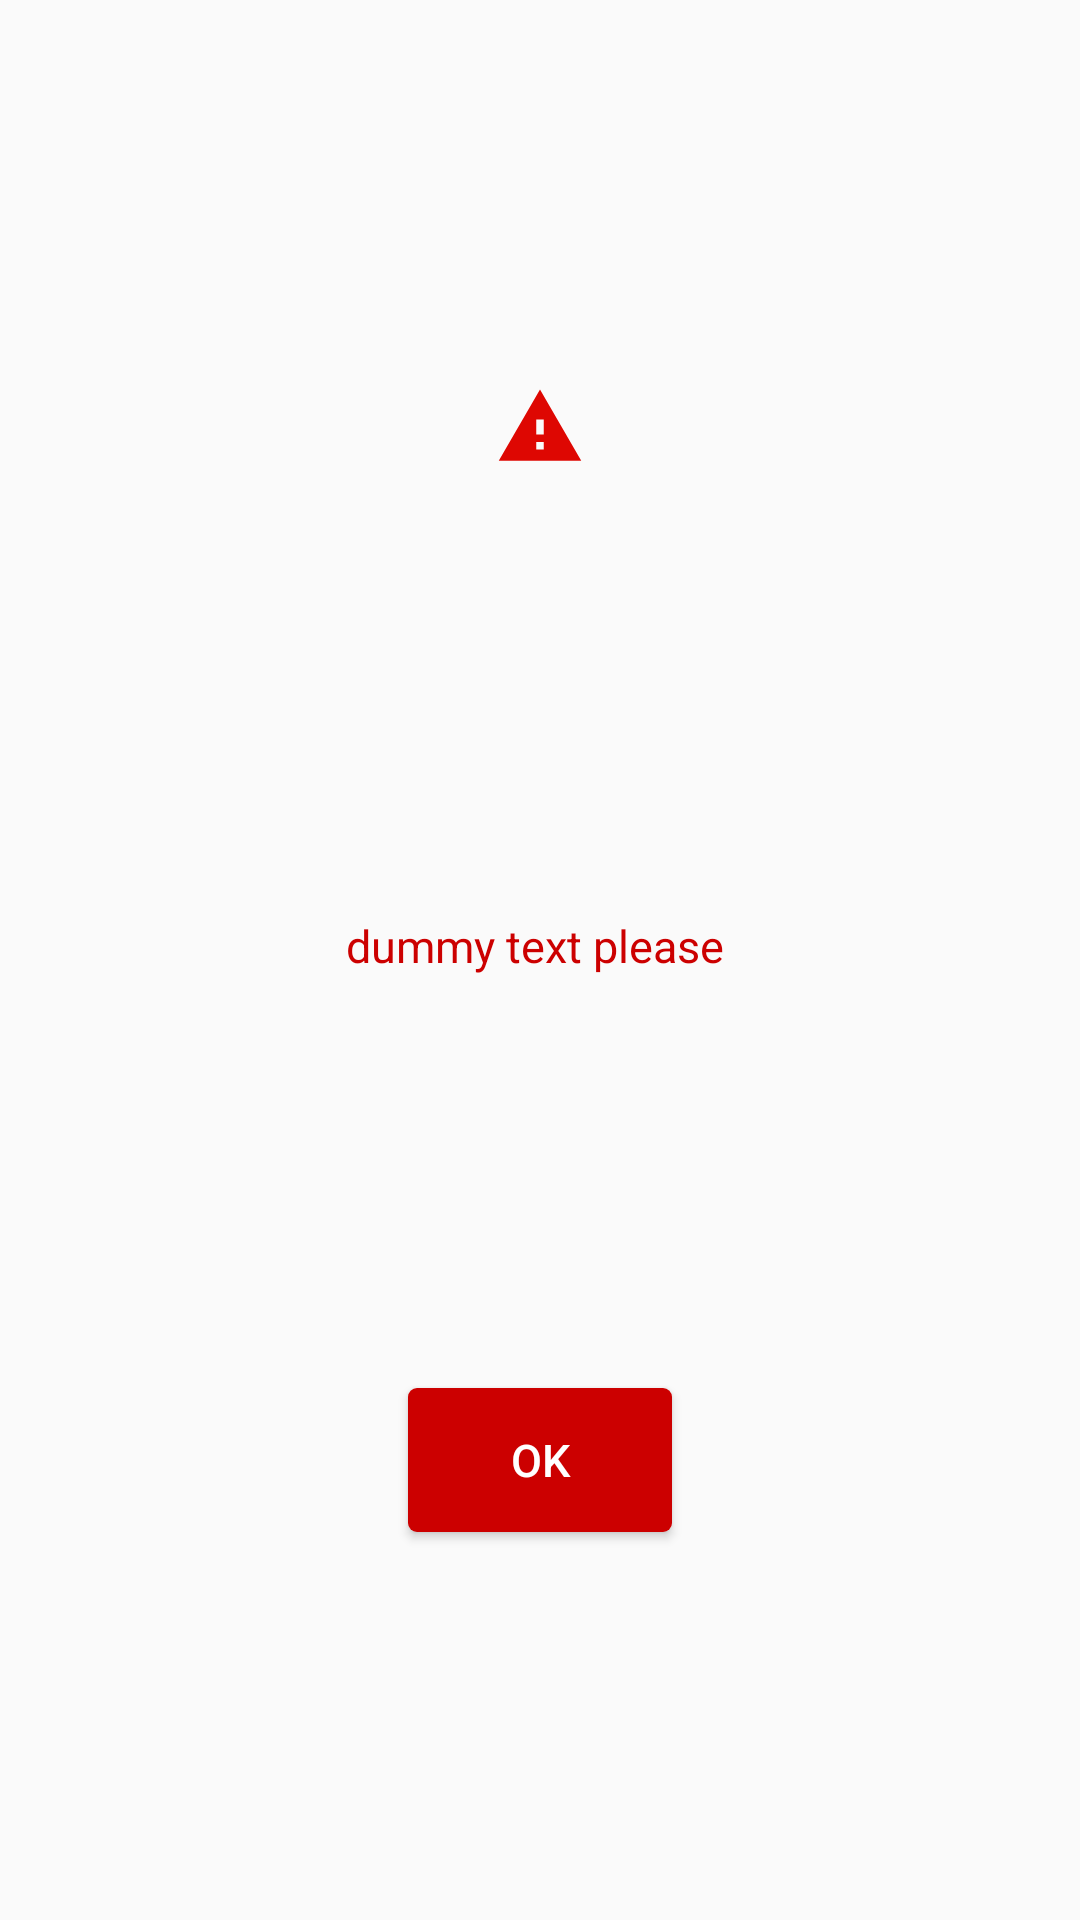

Named icons in this screenshot (1080*1920) and their centers, (x=x, y=y):
warning: (x=540, y=425)
